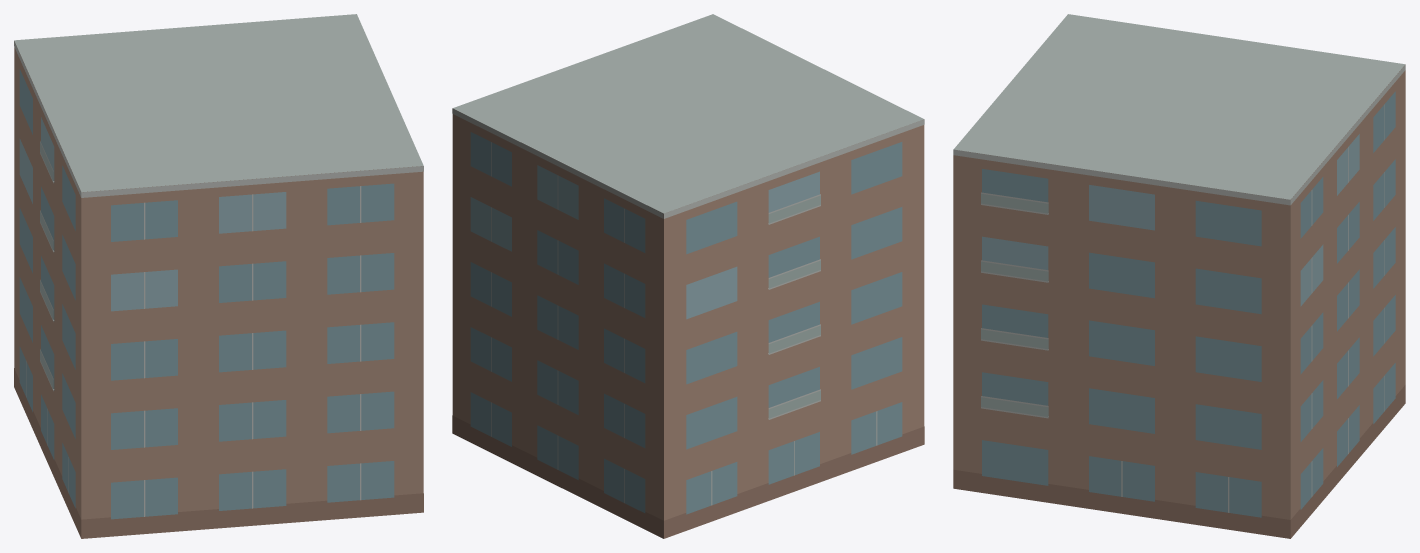
File: survey-upis-32952535.glb
3 views of the same model, side by side, from view 1: azimuth 30°, elevation 25°; view 2: azimuth 150°, elevation 25°; view 3: azimuth 270°, elevation 25° (orthographic). The views are drawn at different scales.
Visible parts, largest first — view 1: survey-upis-32952535.tmp; view 2: survey-upis-32952535.tmp; view 3: survey-upis-32952535.tmp.
Part boxes in pixels (x1,y1,x2,y2): survey-upis-32952535.tmp: [14, 14, 423, 538]; survey-upis-32952535.tmp: [452, 14, 924, 538]; survey-upis-32952535.tmp: [953, 14, 1405, 538].
Bounding box in the file's own units: 17.16 × 14.6 × 17.65.
